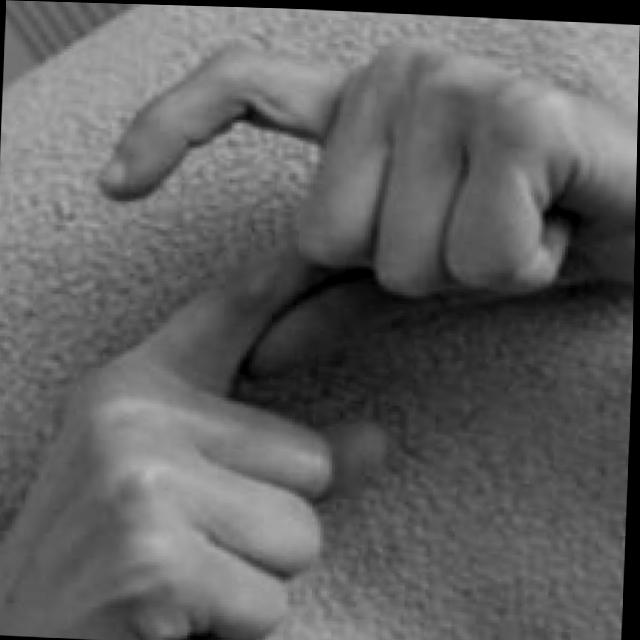S: (0, 9, 640, 640)
